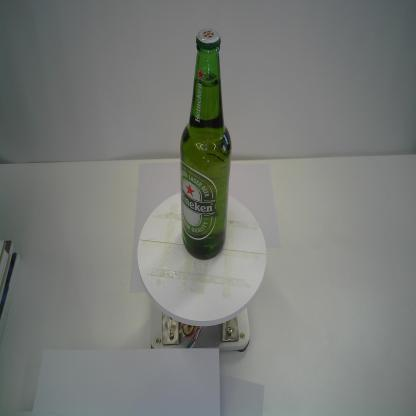Alcohol: (178, 26, 234, 263)
